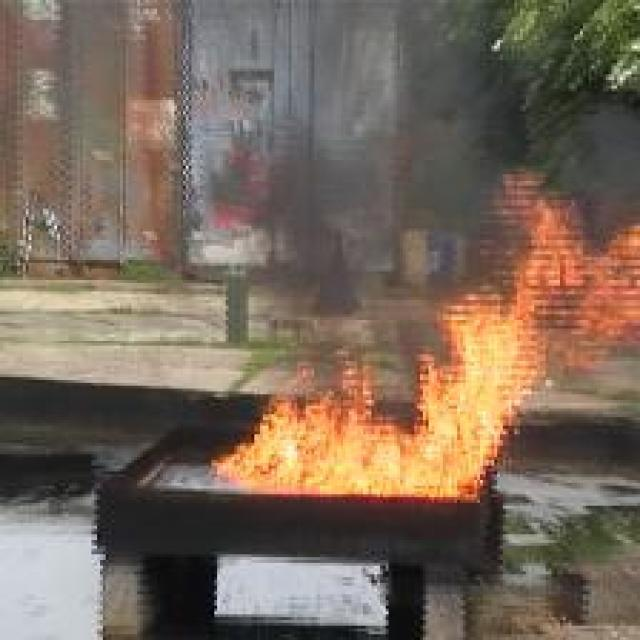Fire: (215, 170, 640, 504)
